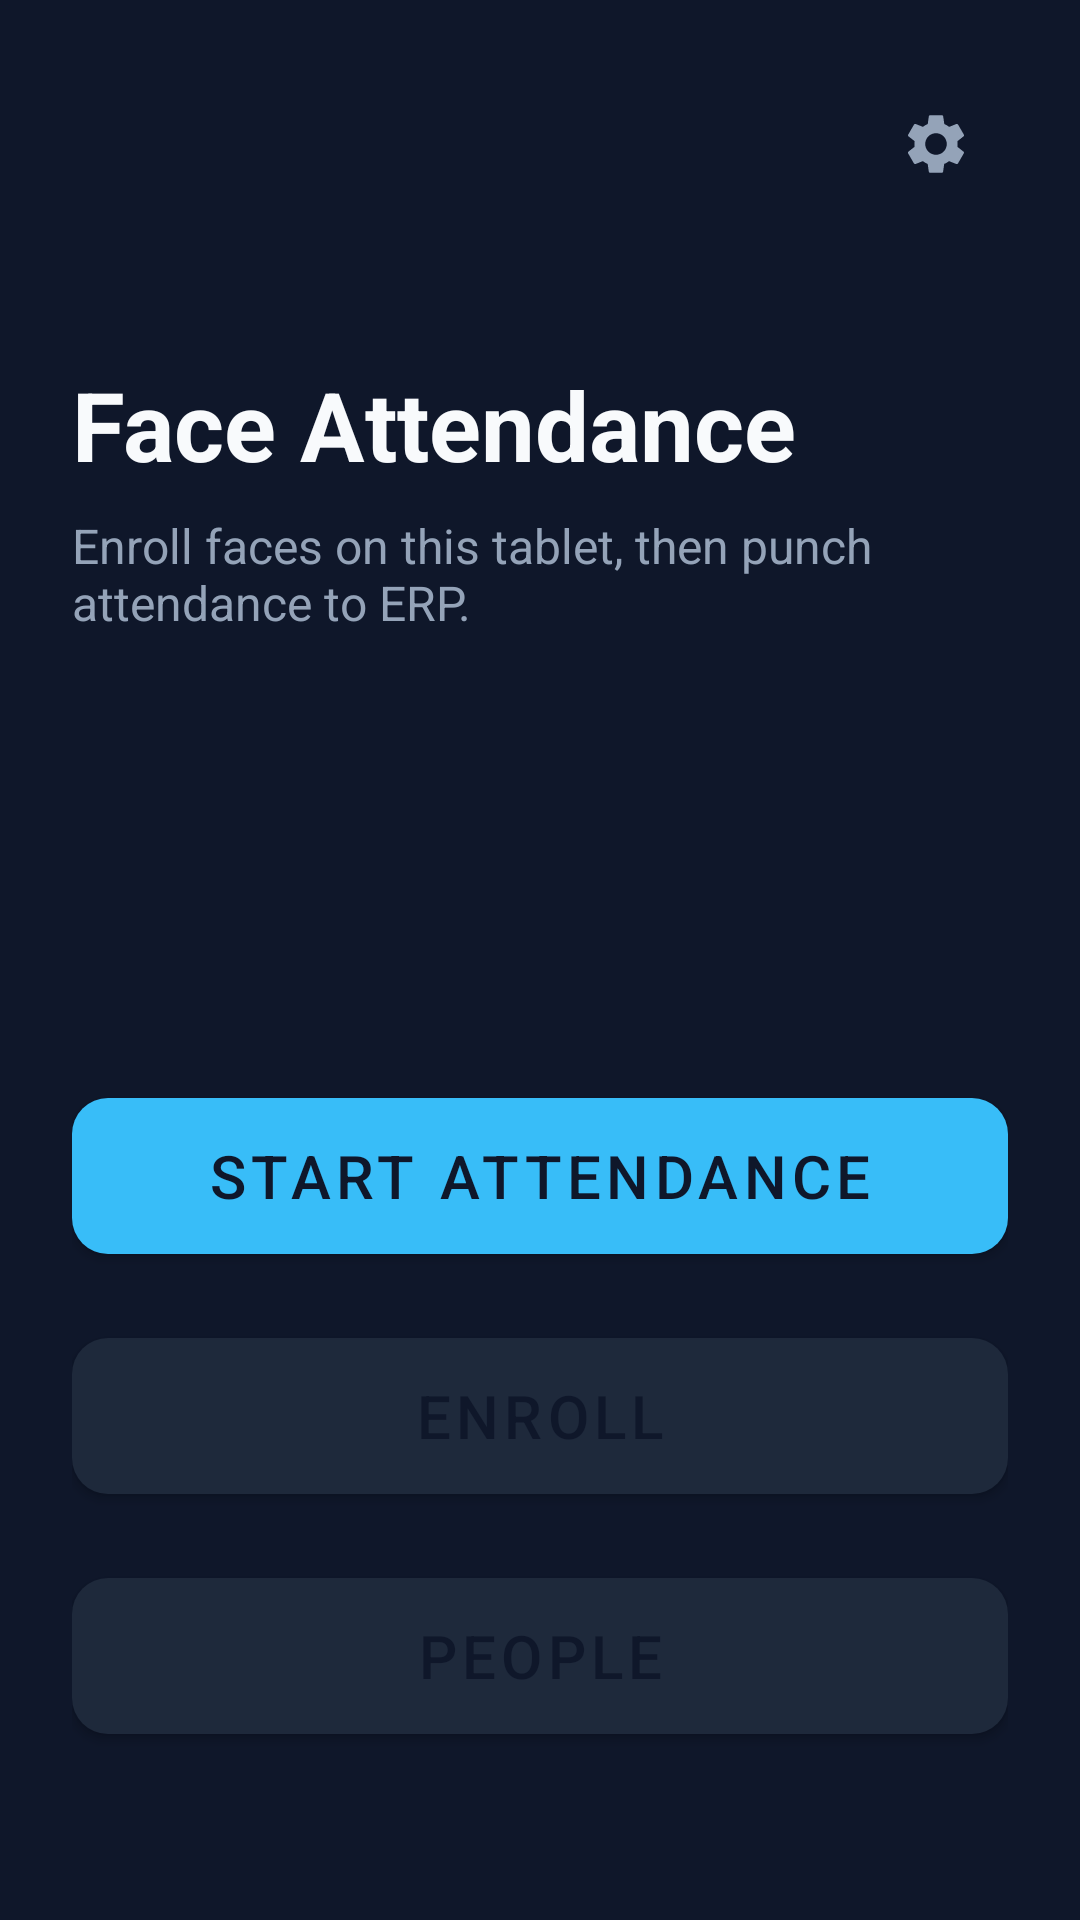

Icon bounding boxes for this 1080x1920 phone screenshot, format region(x1, y1, x2, y2):
Settings: region(908, 115, 964, 173)
